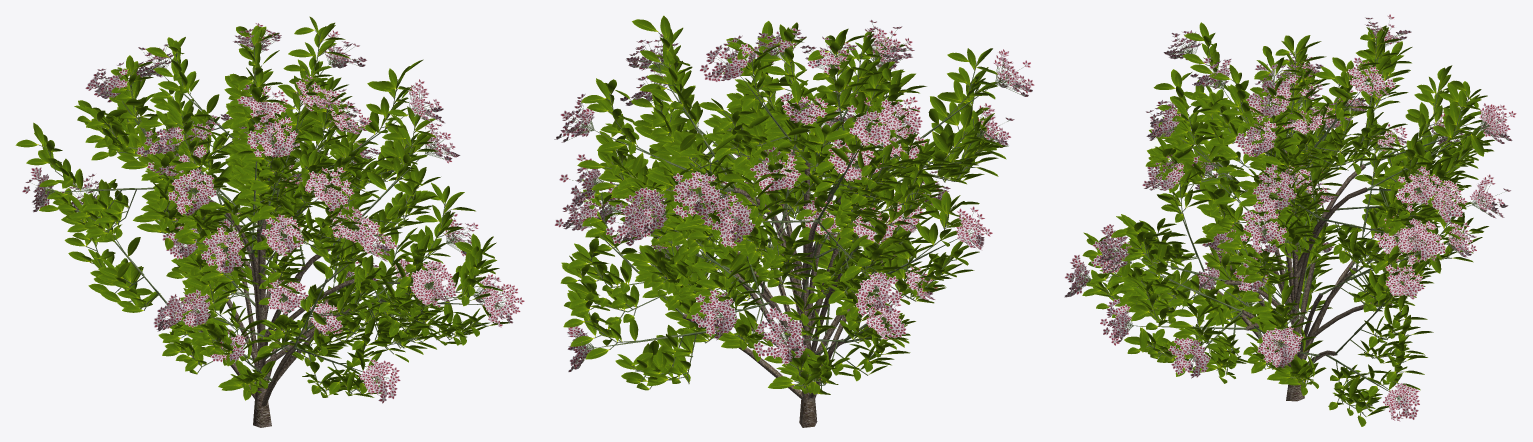
Rendered from kalmia_latifolia_galaxy.glb.
3 renders of one model, left to right at view 1: azimuth 30°, elevation 25°; view 2: azimuth 150°, elevation 25°; view 3: azimuth 270°, elevation 25°, orthographic. The views are drawn at different scales.
Parts seen in each view (by area): view 1: Kalmia_Leaves.003_2, Kalmia_Galaxy_1, Branches.003_0, Trunk.003_3; view 2: Kalmia_Leaves.003_2, Kalmia_Galaxy_1, Branches.003_0, Trunk.003_3; view 3: Kalmia_Leaves.003_2, Kalmia_Galaxy_1, Branches.003_0, Trunk.003_3.
Part boxes in pixels (x1,y1,x2,y2): Kalmia_Leaves.003_2: (15, 16, 509, 400); Kalmia_Galaxy_1: (22, 22, 524, 403); Branches.003_0: (30, 28, 517, 395); Trunk.003_3: (168, 200, 381, 427); Kalmia_Leaves.003_2: (560, 15, 1008, 394); Kalmia_Galaxy_1: (554, 19, 1034, 371); Branches.003_0: (560, 23, 1024, 394); Trunk.003_3: (682, 162, 896, 427); Kalmia_Leaves.003_2: (1082, 22, 1494, 426); Kalmia_Galaxy_1: (1064, 14, 1516, 421); Branches.003_0: (1070, 20, 1509, 417); Trunk.003_3: (1210, 149, 1392, 401).
Bounding box in the file's own units: 2.05 × 1.9 × 2.21.
Materials: 4 (4 with a texture image).
